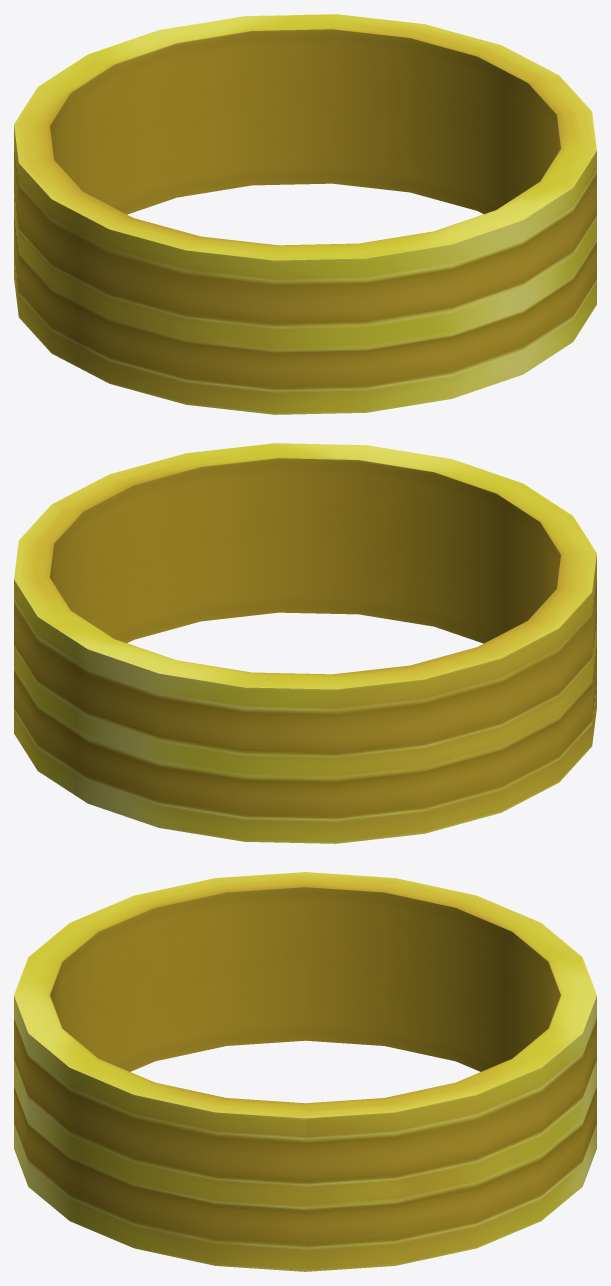
The model's file is ring_gold_16.fbx.
3 views of the same model, one above another, from view 1: azimuth 30°, elevation 25°; view 2: azimuth 150°, elevation 25°; view 3: azimuth 270°, elevation 25° (orthographic).
Parts seen in each view (by area): view 1: ring_gold_16; view 2: ring_gold_16; view 3: ring_gold_16.
Part boxes in pixels (x1=…): ring_gold_16: x1=14, y1=14, x2=596, y2=414; ring_gold_16: x1=14, y1=443, x2=596, y2=843; ring_gold_16: x1=14, y1=872, x2=596, y2=1271.
Bounding box in the file's own units: 2.04 × 0.594 × 2.04.
